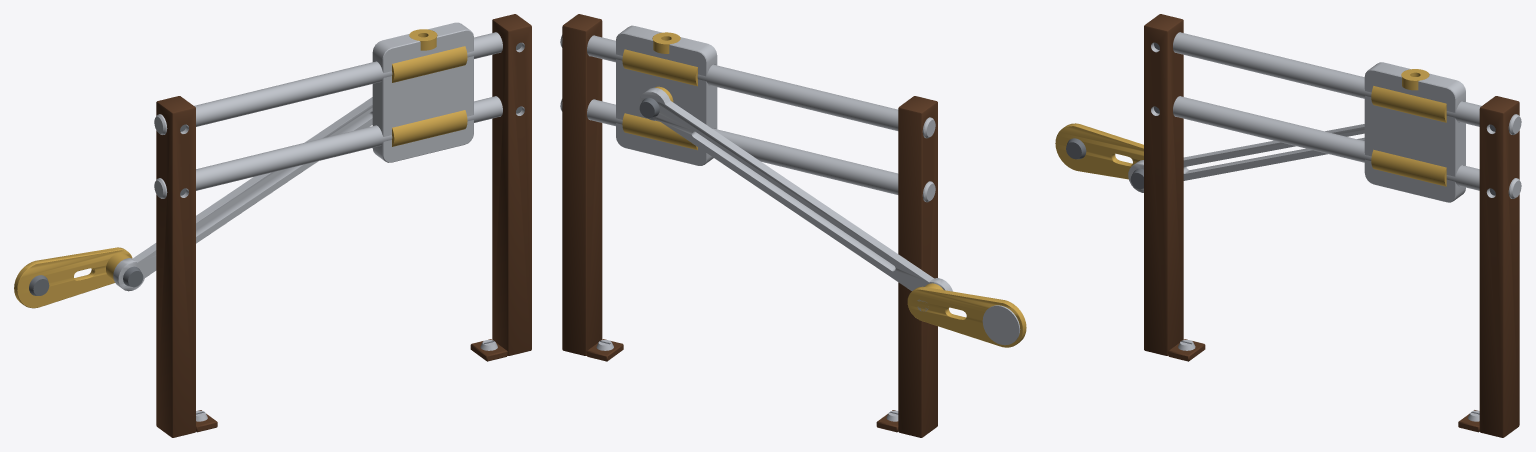
The model's file is slide.glb.
The picture shows the model from 3 angles, left to right: view 1: azimuth 30°, elevation 25°; view 2: azimuth 150°, elevation 25°; view 3: azimuth 330°, elevation 25°; orthographic projection.
Parts seen in each view (by area): view 1: guide_rails, carriage, conn_rod, crank_pin_assy; view 2: guide_rails, carriage, conn_rod, crank_pin_assy; view 3: guide_rails, carriage, crank_pin_assy, conn_rod.
Part boxes in pixels (x1,y1,x2,y2): guide_rails: (154,14,531,437); carriage: (372,22,473,162); conn_rod: (113,97,372,291); crank_pin_assy: (14,247,143,308); guide_rails: (560,14,937,437); carriage: (616,25,717,165); conn_rod: (639,87,952,291); crank_pin_assy: (907,283,1026,347); guide_rails: (1144,14,1521,437); carriage: (1364,62,1465,202); crank_pin_assy: (1055,123,1143,189); conn_rod: (1128,124,1364,192).
Size of the model in its own units: 0.1588 by 0.104 by 0.0215.
